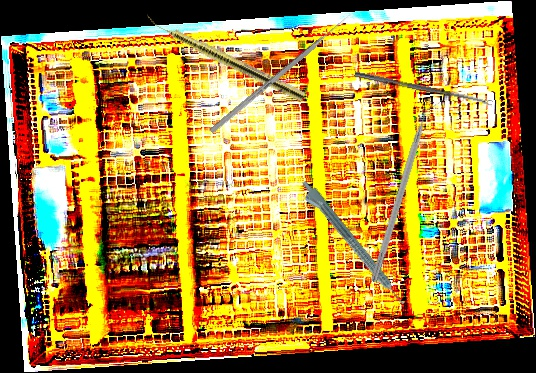Chopper: (369, 98, 444, 286)
Handpiece: (294, 177, 408, 313), (141, 12, 307, 103)
Pusher: (209, 12, 353, 134)
Surgical Spoon: (353, 71, 494, 107)
